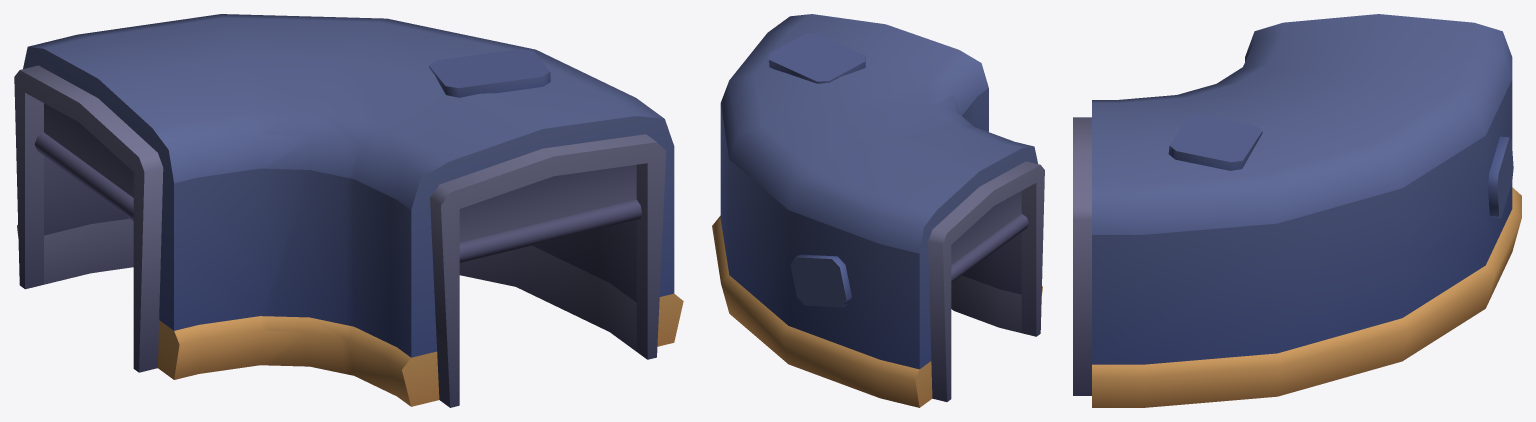
Rendered from machine-bed.glb.
3 renders of one model, left to right at view 1: azimuth 30°, elevation 25°; view 2: azimuth 150°, elevation 25°; view 3: azimuth 270°, elevation 25°, orthographic. The views are drawn at different scales.
Visible parts, largest first — view 1: machine-bed; view 2: machine-bed; view 3: machine-bed.
Boxes of the visible parts, box(x1,y1,x2,y2) form: machine-bed: box(14, 14, 683, 407); machine-bed: box(712, 14, 1044, 407); machine-bed: box(1073, 14, 1521, 407).
Bounding box in the file's own units: 2.35 × 1.3 × 2.35.
